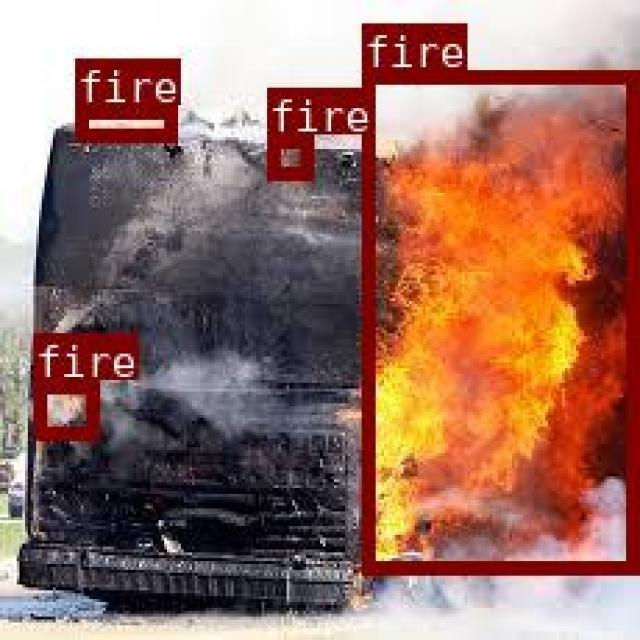fire: (360, 69, 634, 570), (31, 378, 97, 437), (74, 104, 175, 138), (264, 132, 310, 176)
